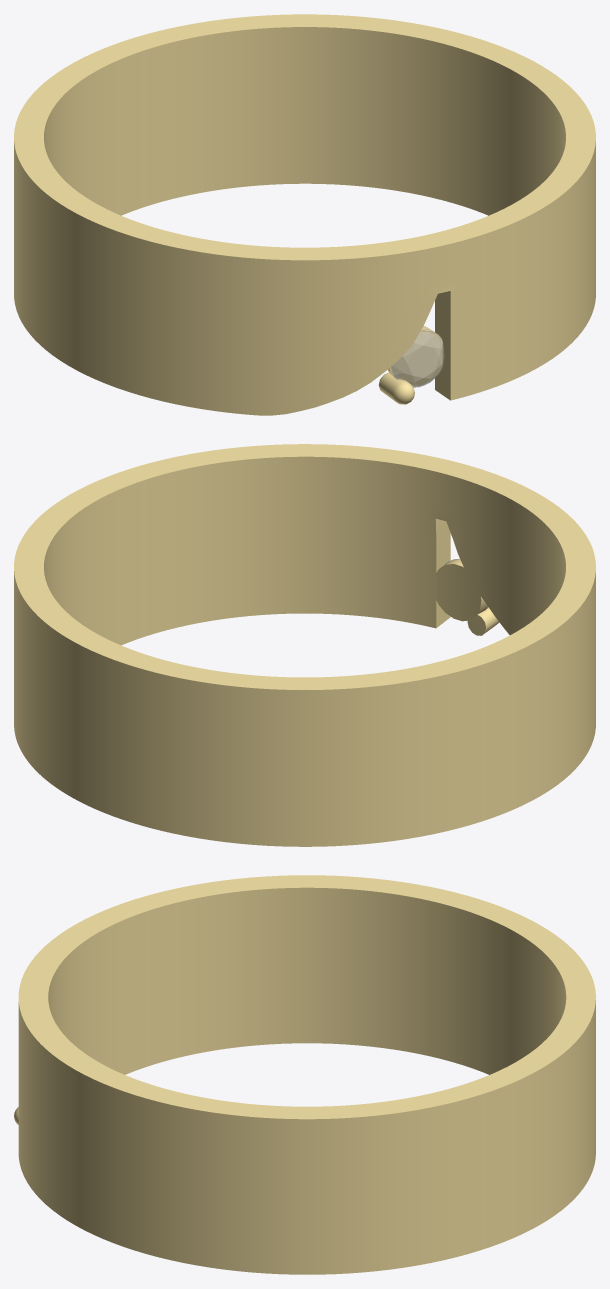
The picture shows the model from 3 angles, top to bottom: view 1: azimuth 30°, elevation 25°; view 2: azimuth 150°, elevation 25°; view 3: azimuth 270°, elevation 25°; orthographic projection.
Parts seen in each view (by area): view 1: Base_Metal, Engraving_Metal, Finishing_Metal, Diamond_Metal; view 2: Base_Metal, Engraving_Metal, Finishing_Metal; view 3: Base_Metal, Engraving_Metal.
Part boxes in pixels (x1=…): Base_Metal: x1=14, y1=14, x2=595, y2=415; Engraving_Metal: x1=44, y1=27, x2=565, y2=215; Finishing_Metal: x1=378, y1=326, x2=442, y2=404; Diamond_Metal: x1=391, y1=329, x2=444, y2=387; Base_Metal: x1=14, y1=444, x2=595, y2=846; Engraving_Metal: x1=44, y1=456, x2=565, y2=645; Finishing_Metal: x1=436, y1=558, x2=499, y2=635; Base_Metal: x1=18, y1=875, x2=595, y2=1274; Engraving_Metal: x1=48, y1=887, x2=566, y2=1074.
Bounding box in the file's own units: 2.02 × 0.6 × 2.03.
